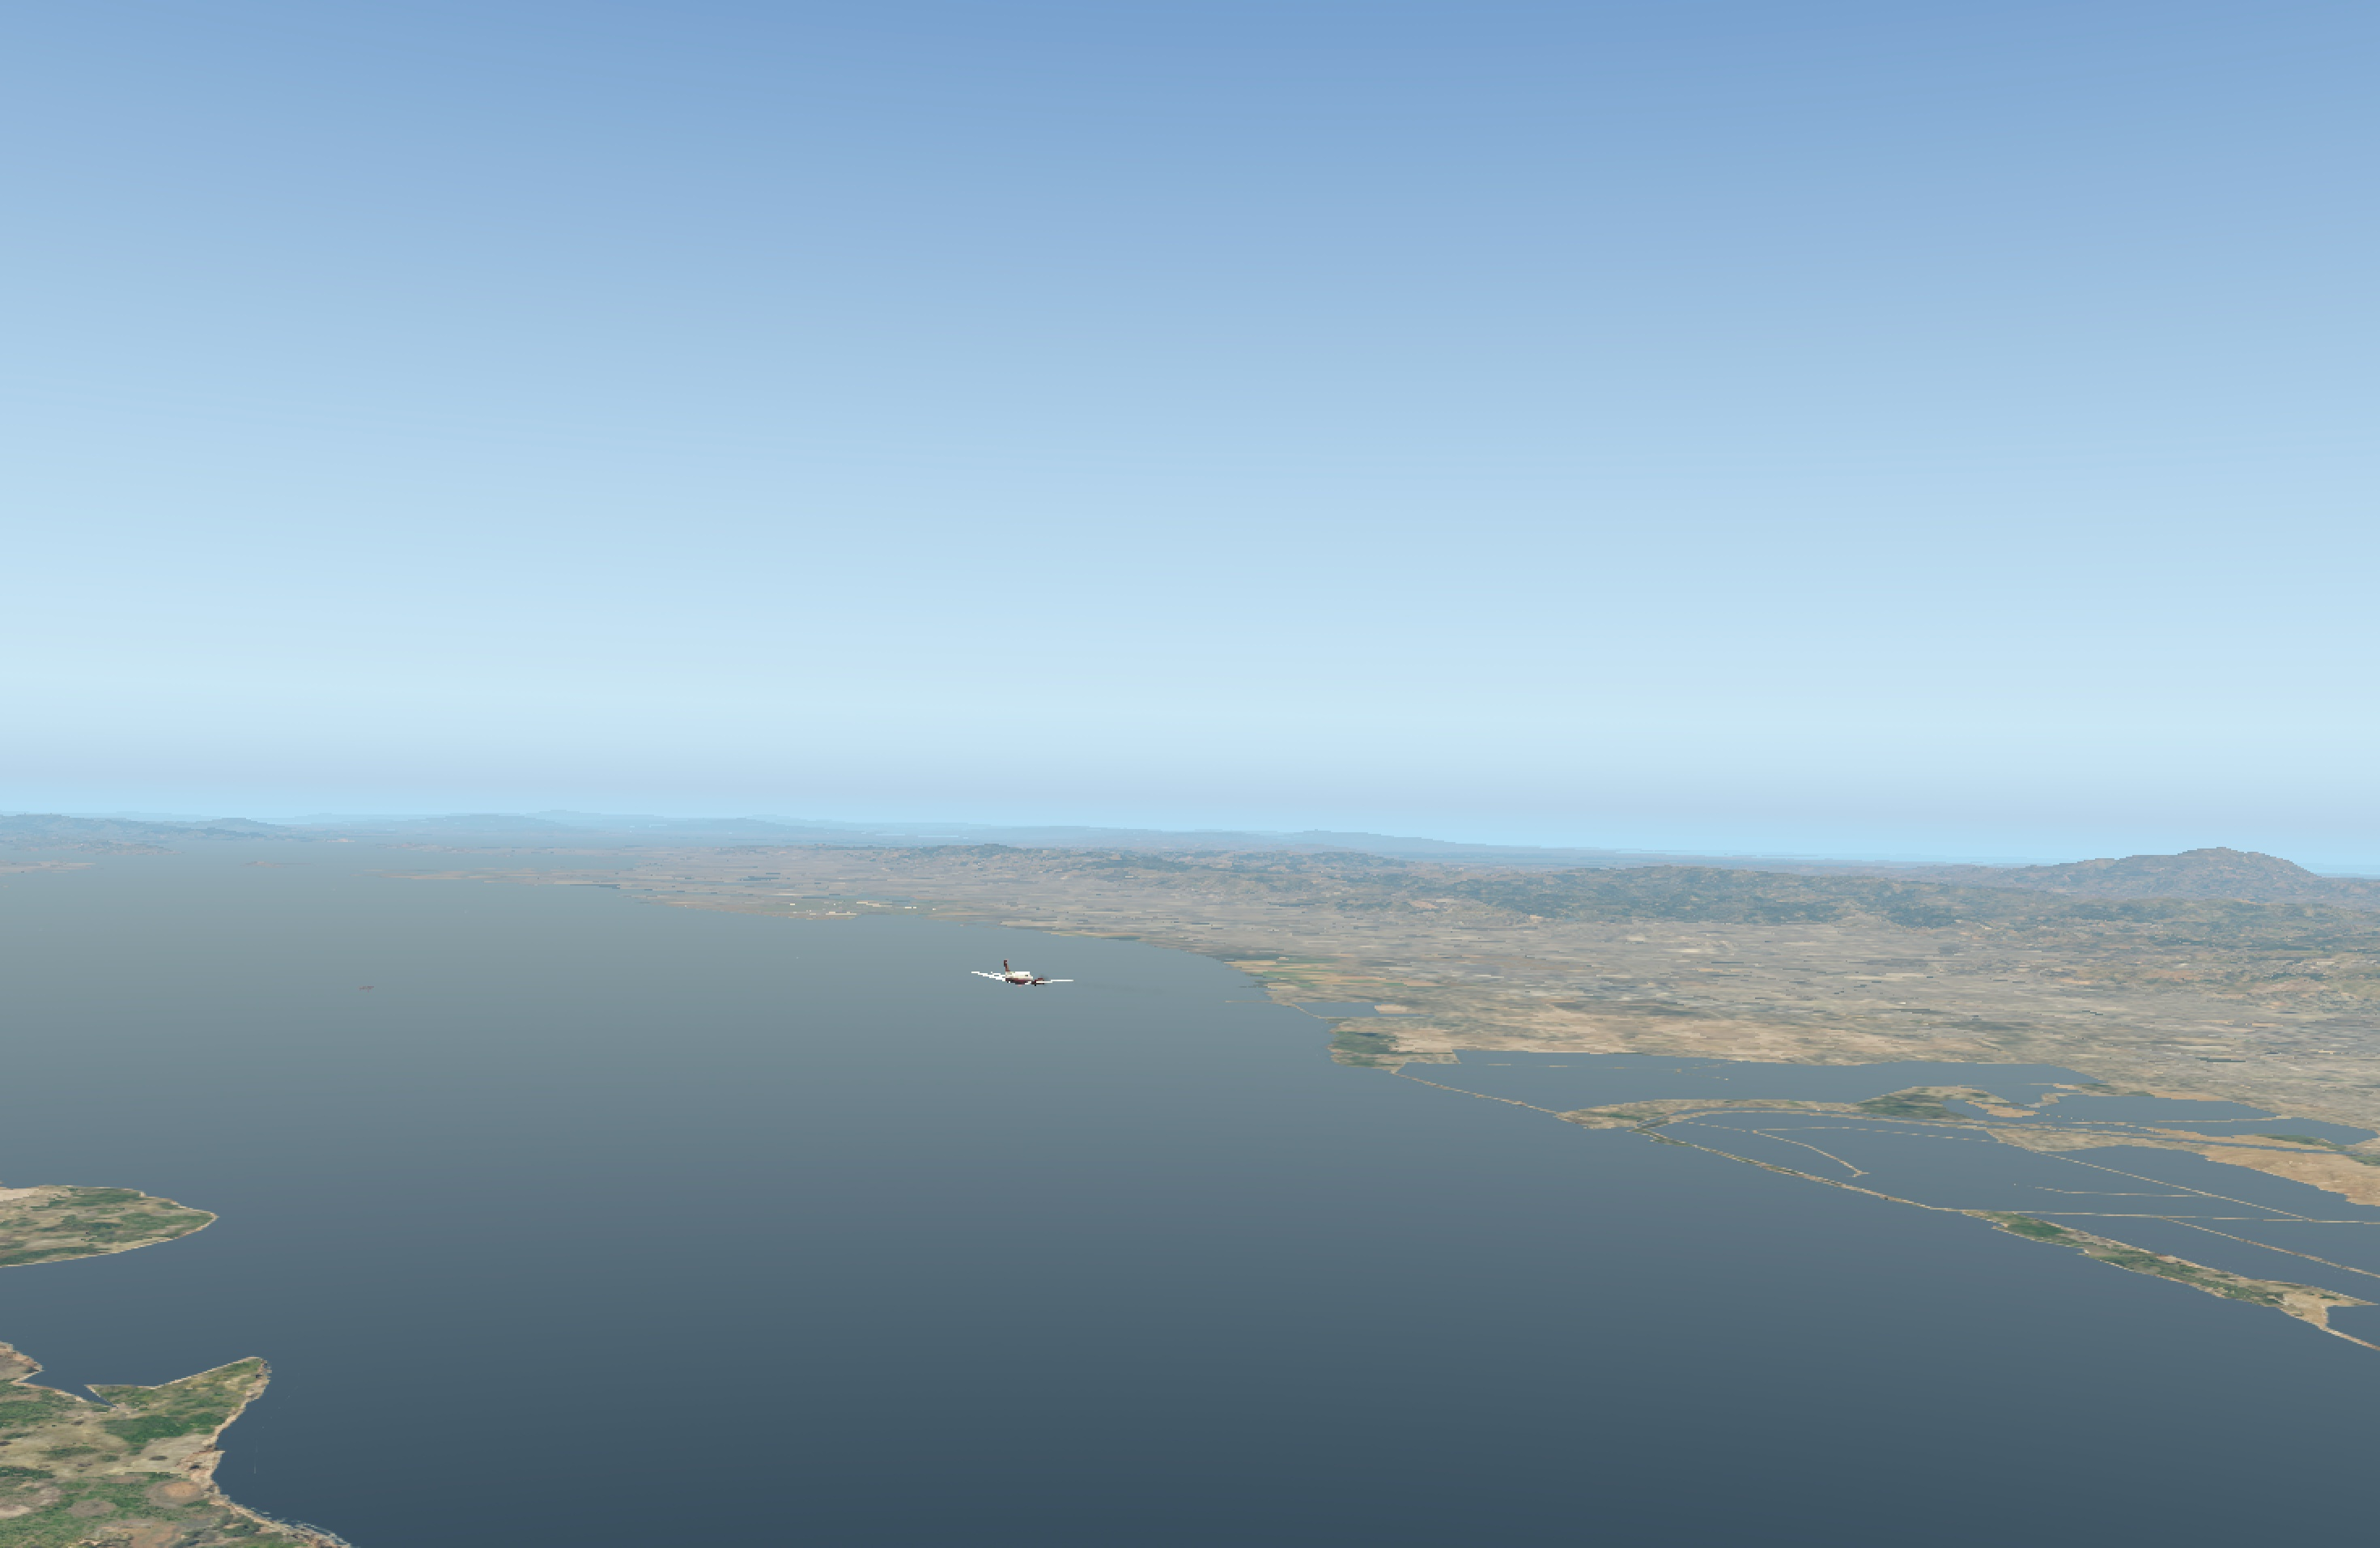aircraft: (966, 961, 1079, 1003)
